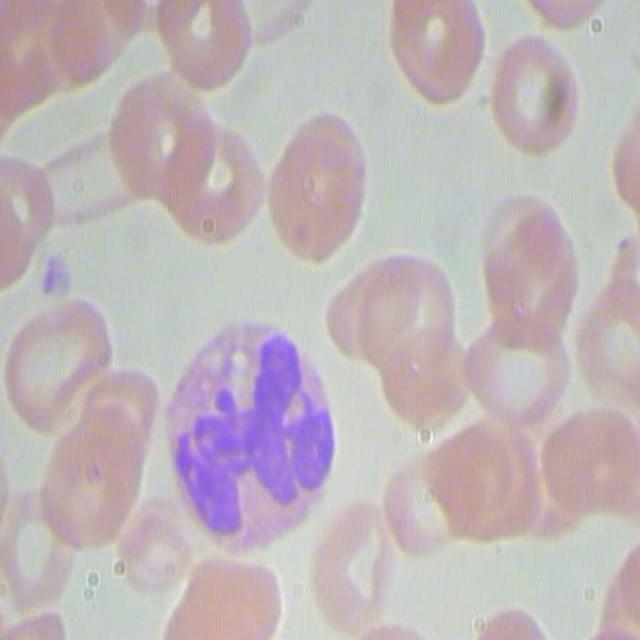RBC: (329, 247, 466, 429), (38, 351, 150, 550), (0, 0, 139, 131), (399, 432, 542, 557), (263, 109, 365, 267), (5, 289, 113, 438), (479, 190, 578, 350), (315, 476, 402, 634), (465, 310, 567, 434), (106, 75, 212, 193), (162, 128, 262, 248), (486, 34, 580, 156), (387, 2, 486, 106), (161, 553, 276, 640), (579, 252, 640, 404), (159, 0, 255, 93), (0, 496, 71, 608), (0, 144, 50, 292), (217, 0, 322, 48), (600, 527, 640, 637), (508, 0, 614, 32)
WBC: (167, 311, 339, 558)
platelets: (36, 251, 72, 302)
